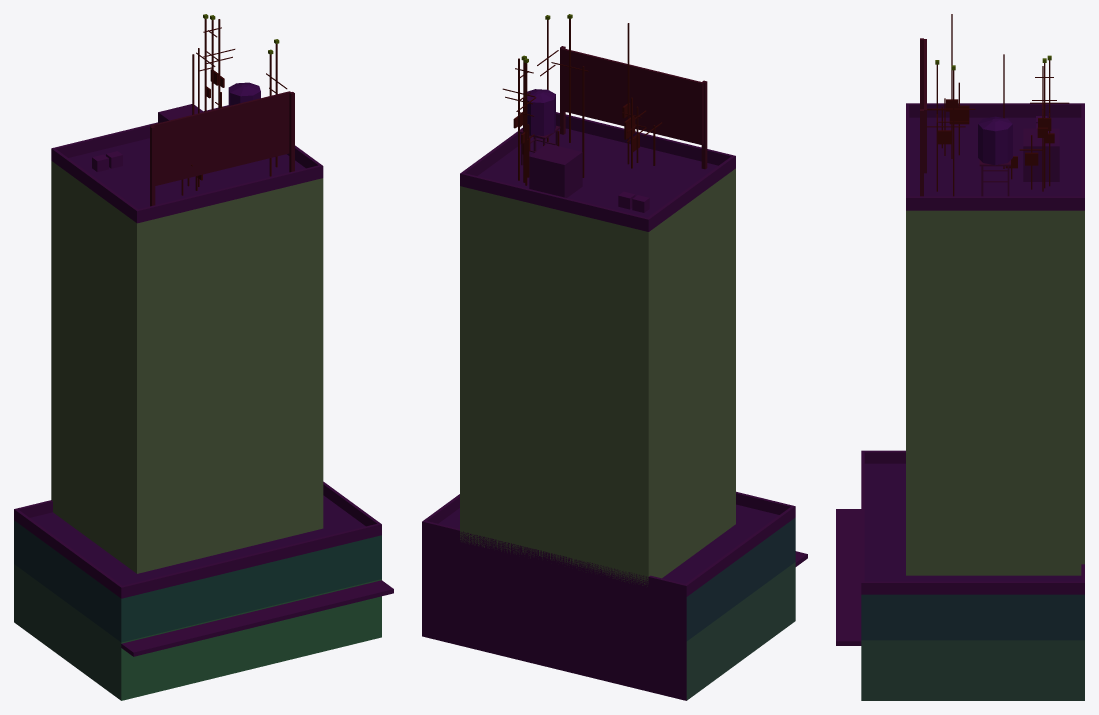
The model's file is midrise_a.glb.
3 renders of one model, left to right at view 1: azimuth 30°, elevation 25°; view 2: azimuth 150°, elevation 25°; view 3: azimuth 270°, elevation 25°, orthographic. The views are drawn at different scales.
Visible parts, largest first — view 1: midrise_a; view 2: midrise_a; view 3: midrise_a.
Part boxes in pixels (x1=…): midrise_a: x1=14, y1=14, x2=393, y2=700; midrise_a: x1=422, y1=14, x2=807, y2=700; midrise_a: x1=836, y1=14, x2=1084, y2=700.
Bounding box in the file's own units: 22.4 × 48.59 × 17.8.
